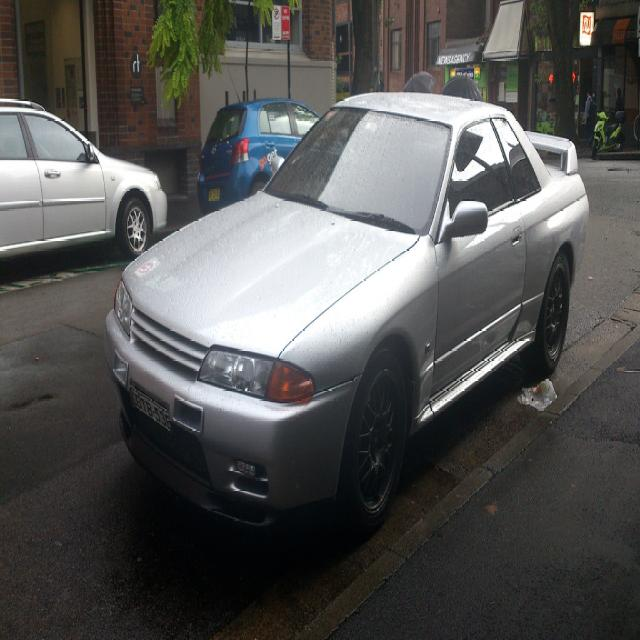car: (101, 91, 589, 545)
